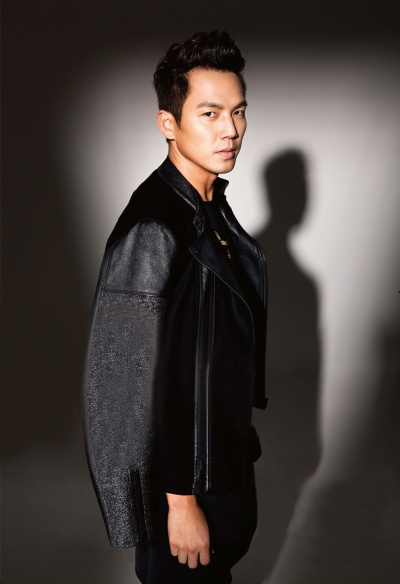male: (141, 21, 278, 189)
